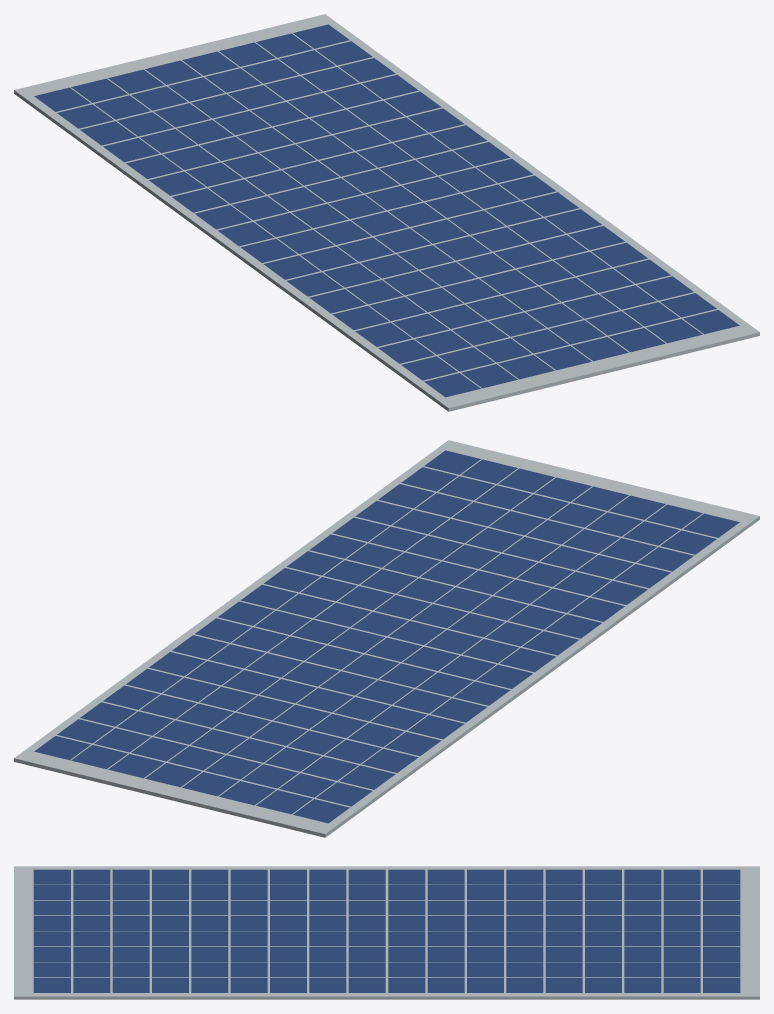
Rendered from nauka.wing_base.solar_l.glb.
The picture shows the model from 3 angles, top to bottom: view 1: azimuth 30°, elevation 25°; view 2: azimuth 150°, elevation 25°; view 3: azimuth 270°, elevation 25°; orthographic projection. The views are drawn at different scales.
Visible parts, largest first — view 1: nauka.wing_base.solar_l.cells.mesh_Blue_photovoltaic_cells, nauka.wing_base.solar_l.cells.mesh_Satin_aluminum; view 2: nauka.wing_base.solar_l.cells.mesh_Blue_photovoltaic_cells, nauka.wing_base.solar_l.cells.mesh_Satin_aluminum; view 3: nauka.wing_base.solar_l.cells.mesh_Blue_photovoltaic_cells, nauka.wing_base.solar_l.cells.mesh_Satin_aluminum.
Part boxes in pixels (x1=…): nauka.wing_base.solar_l.cells.mesh_Blue_photovoltaic_cells: x1=34, y1=24, x2=739, y2=397; nauka.wing_base.solar_l.cells.mesh_Satin_aluminum: x1=14, y1=14, x2=759, y2=411; nauka.wing_base.solar_l.cells.mesh_Blue_photovoltaic_cells: x1=34, y1=450, x2=739, y2=823; nauka.wing_base.solar_l.cells.mesh_Satin_aluminum: x1=14, y1=440, x2=759, y2=837; nauka.wing_base.solar_l.cells.mesh_Blue_photovoltaic_cells: x1=33, y1=869, x2=740, y2=992; nauka.wing_base.solar_l.cells.mesh_Satin_aluminum: x1=14, y1=866, x2=759, y2=999.
Size of the model in its own units: 1.89 by 0.0225 by 4.57.
